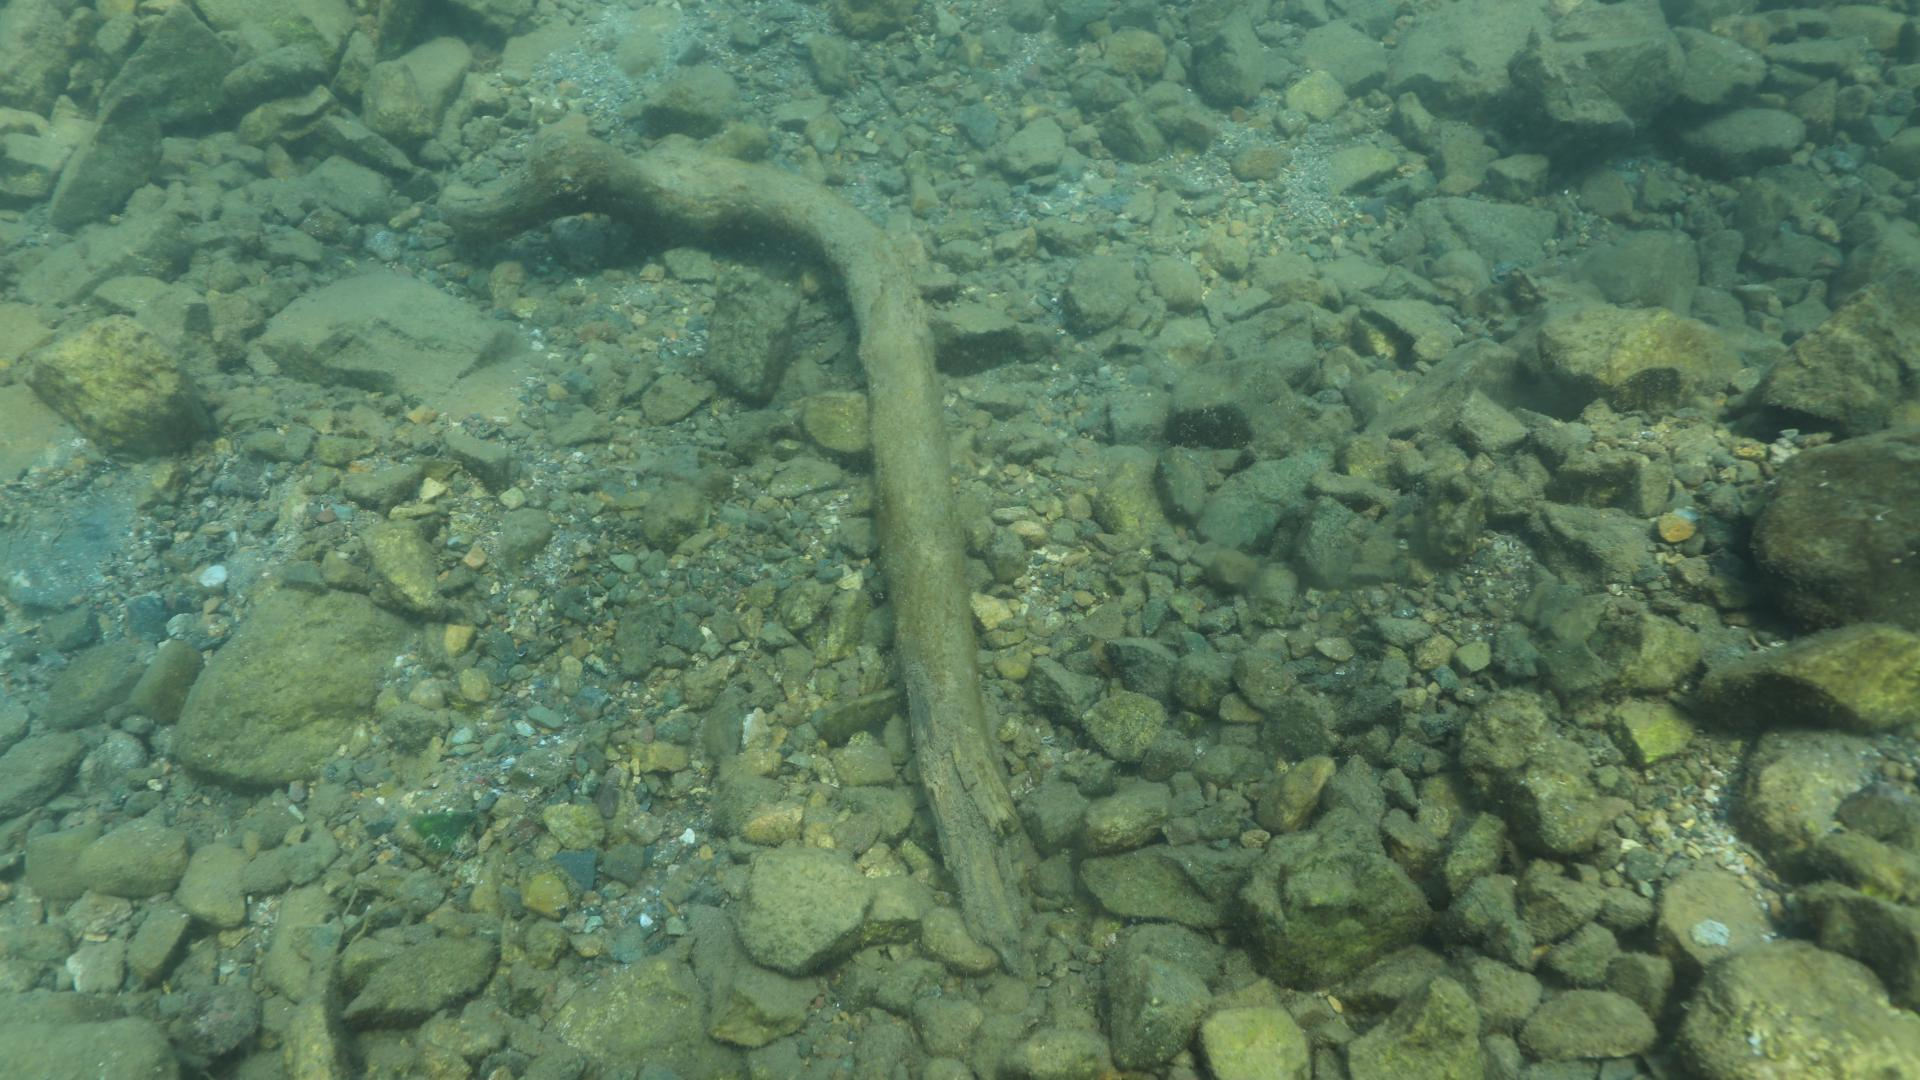wood: (431, 109, 1029, 981)
